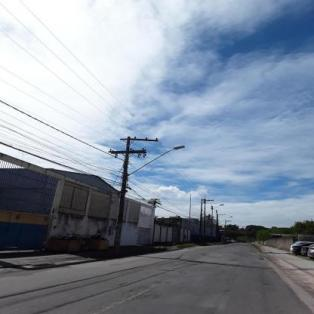Poste: (113, 136, 132, 250)
